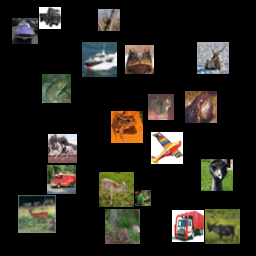airplane: (99, 169, 118, 188)
automobile: (6, 187, 41, 222), (166, 128, 195, 157), (59, 182, 78, 201)
bird: (134, 215, 169, 250), (164, 94, 193, 123), (121, 16, 150, 45), (64, 133, 83, 152), (200, 3, 219, 22)
cat: (210, 54, 242, 86)
deer: (149, 177, 184, 212), (90, 68, 116, 94)
dog: (186, 191, 218, 223), (212, 121, 231, 140), (30, 129, 49, 148)
frog: (96, 118, 131, 153), (172, 47, 204, 79)
ship: (26, 52, 58, 84), (26, 95, 52, 121), (63, 76, 89, 102)
